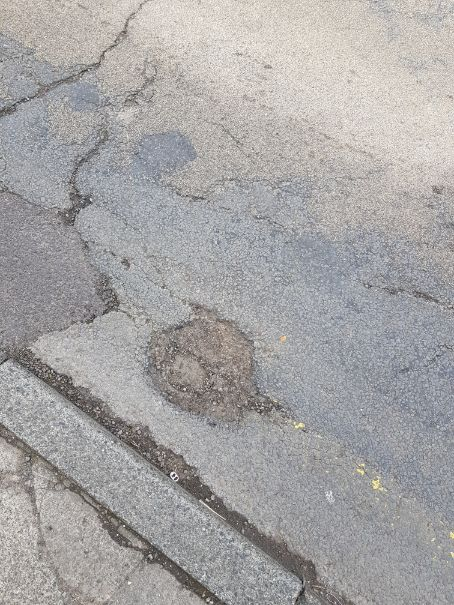pothole: (139, 295, 292, 425)
